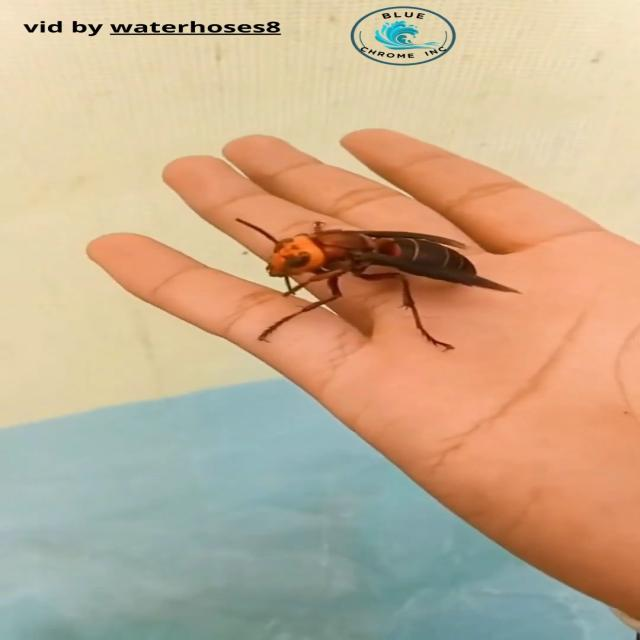Hornets: (231, 215, 526, 351)
